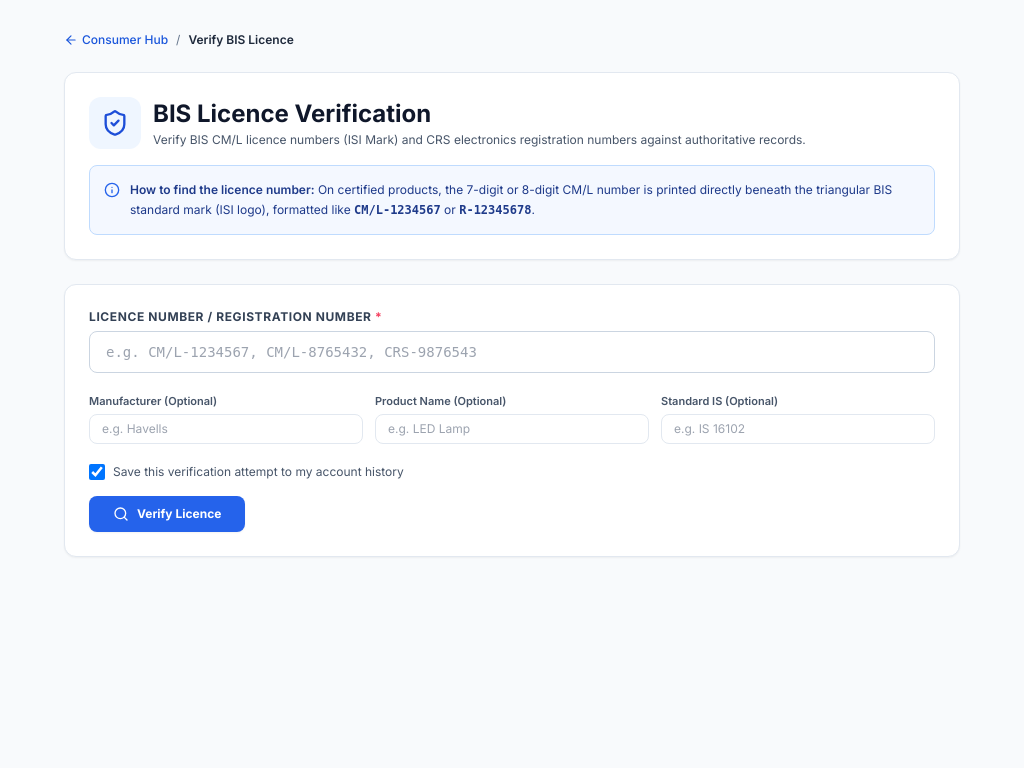
Test: Phase 11 — Frontend Consumer Services & Hallmarking Intelligence Tests › 2. LicenceVerificationPage submits licence number and renders VERIFIED result
Expected: the heading "BIS Licence Verification" is shown, [153, 99, 431, 128]
In the field labelled "Licence Number / Registration Number *": (512, 352) [89, 331, 935, 373], type "CM/L-1234567"
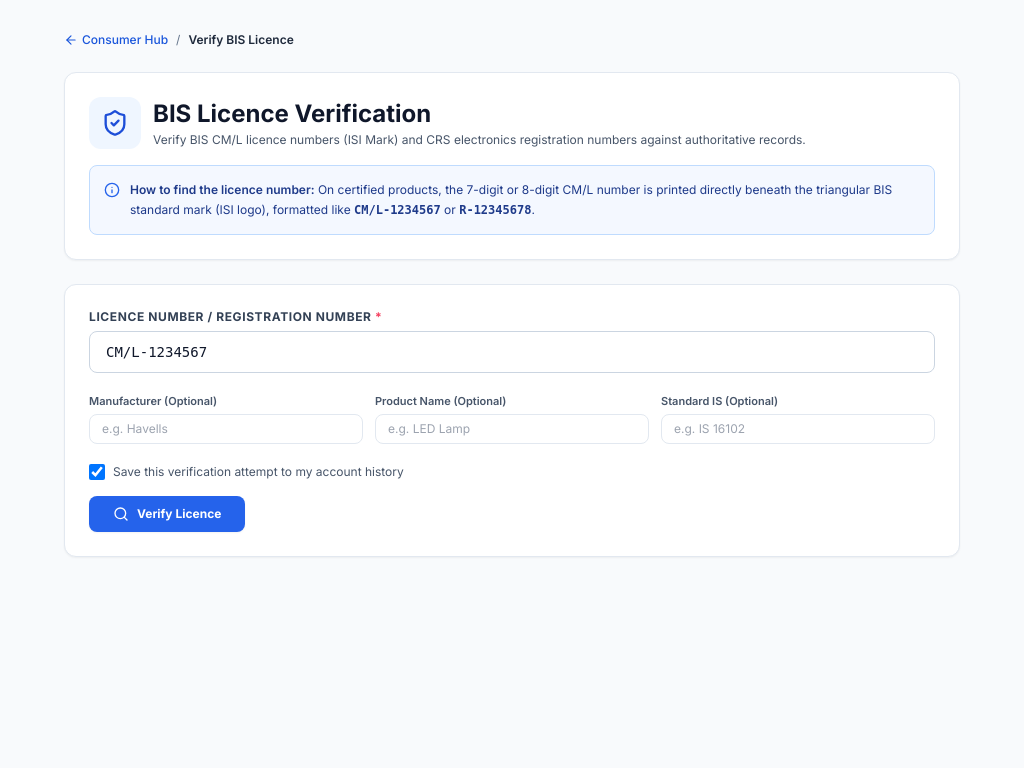
Click the button "Verify Licence": (167, 514) [89, 496, 245, 532]
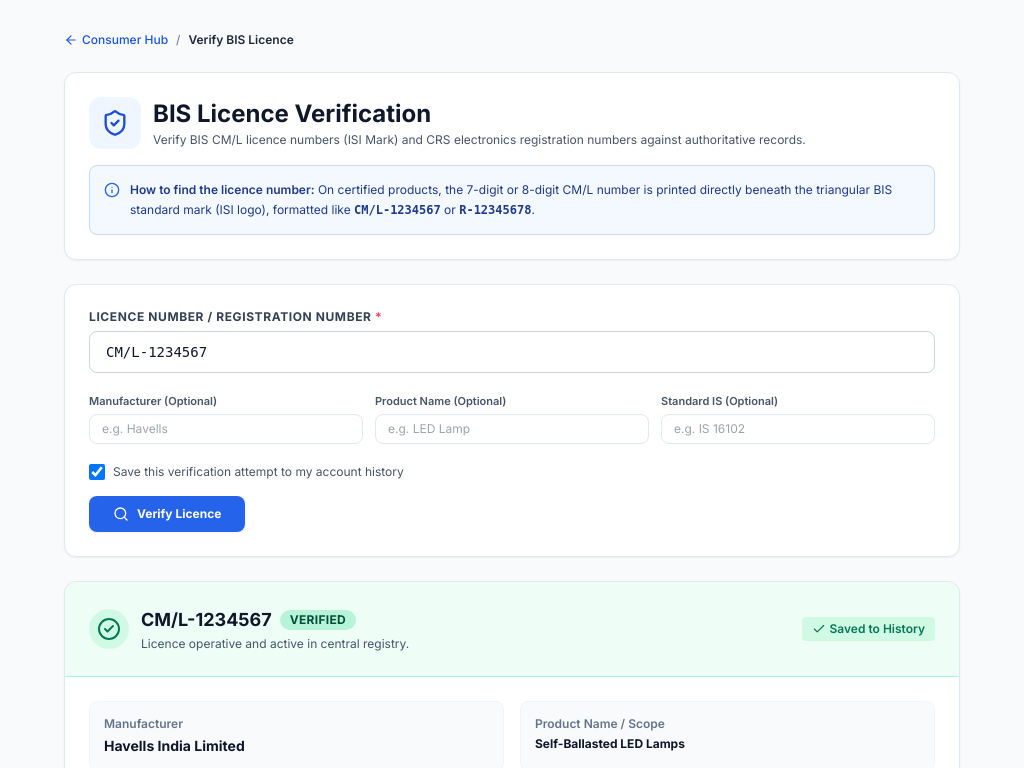
Expected: the text "Havells India Limited" is shown, [104, 736, 245, 754]
Expected: the text "VERIFIED" is shown, [280, 610, 356, 630]
